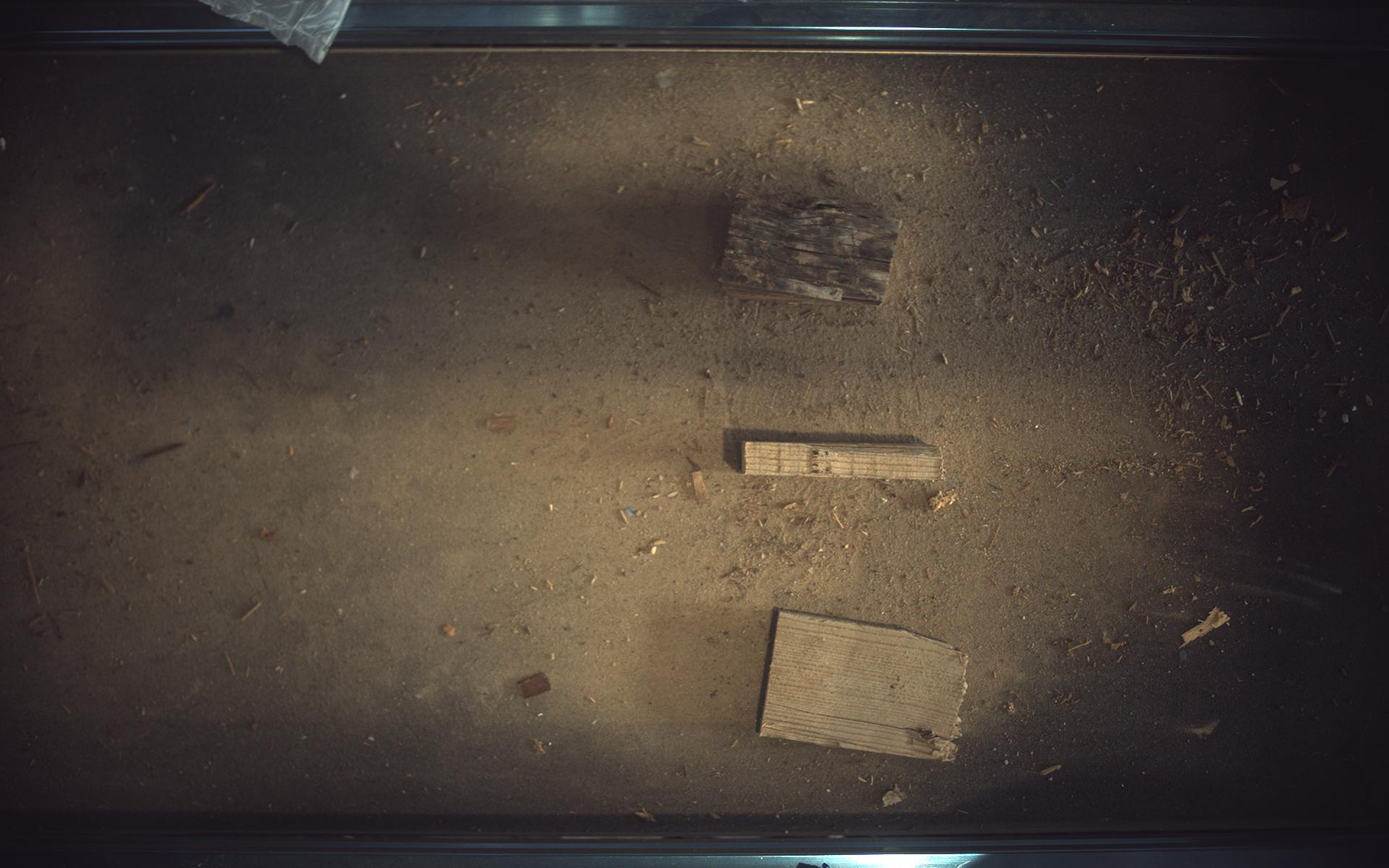wood: (762, 613, 970, 762), (721, 195, 903, 304), (743, 441, 945, 481)
